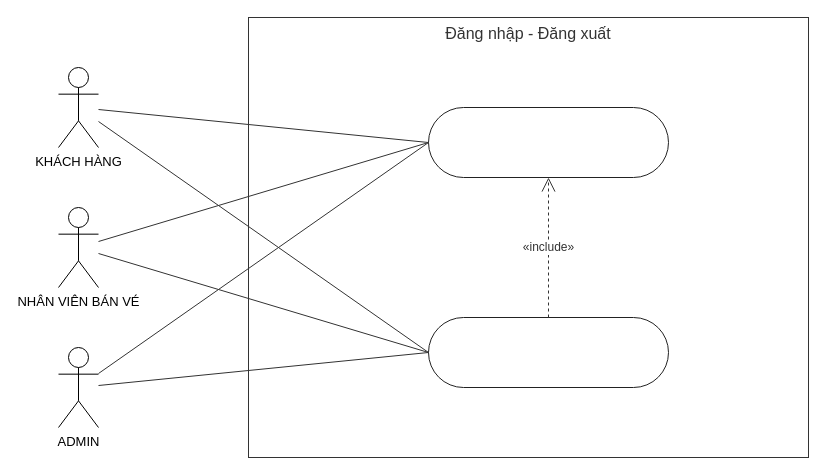
Image size: 826x475. Some labels were removed from this diagram. Here are the shapes that lost their labels. From the top down, the box of each, then its label:
(428, 106, 668, 178): Đăng nhập
(428, 316, 668, 388): Đăng xuất
